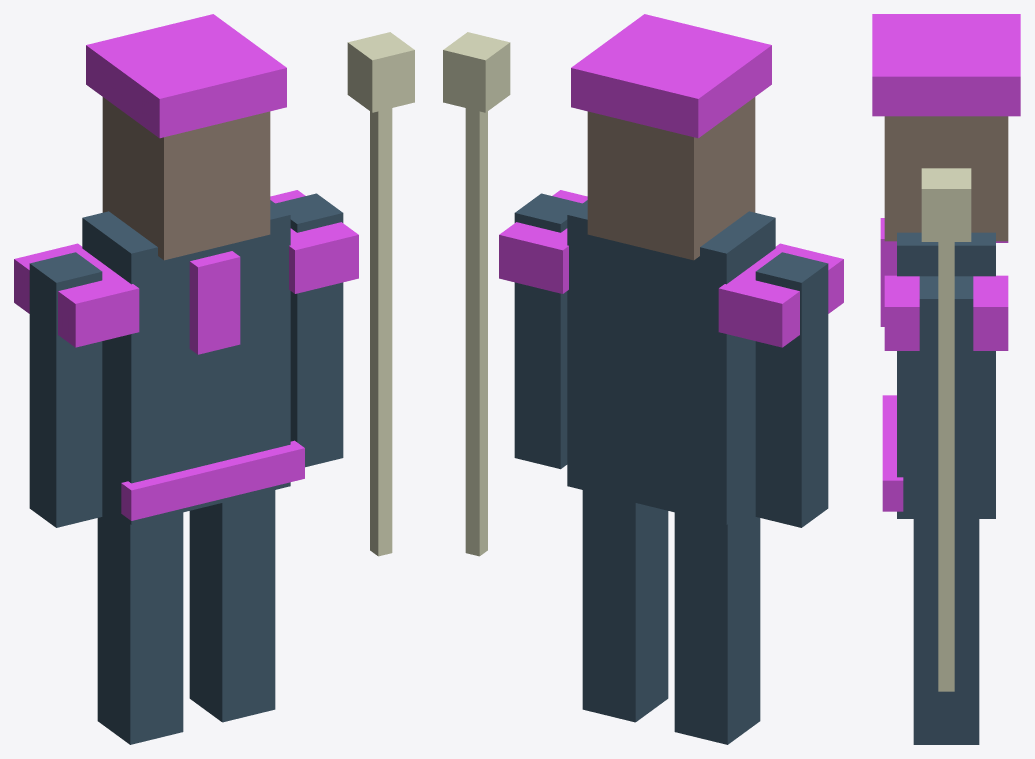
File: 14_sable_ironwake_smith_from_blank_load.glb
The picture shows the model from 3 angles, left to right: view 1: azimuth 30°, elevation 25°; view 2: azimuth 150°, elevation 25°; view 3: azimuth 270°, elevation 25°; orthographic projection.
Parts seen in each view (by area): view 1: Sable Ironwake, Smith from Blank-Load; view 2: Sable Ironwake, Smith from Blank-Load; view 3: Sable Ironwake, Smith from Blank-Load.
Part boxes in pixels (<box>): Sable Ironwake, Smith from Blank-Load: <box>14,14,414,744</box>; Sable Ironwake, Smith from Blank-Load: <box>443,14,843,744</box>; Sable Ironwake, Smith from Blank-Load: <box>872,14,1020,744</box>.
Size of the model in its own units: 0.9576 by 1.68 by 0.3396.
